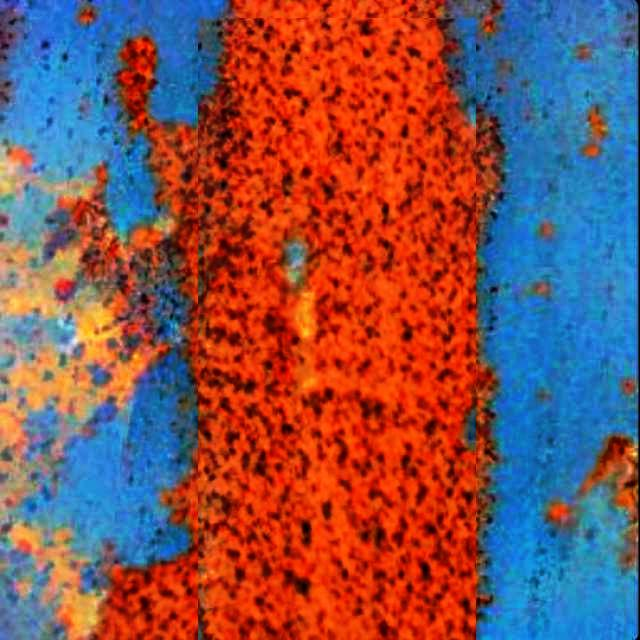Corrosion: (98, 0, 494, 640), (193, 0, 478, 640), (546, 437, 639, 568), (93, 552, 196, 640), (160, 475, 193, 530)
